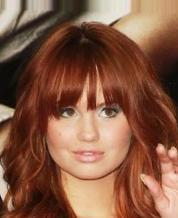face: (58, 105, 119, 163)
